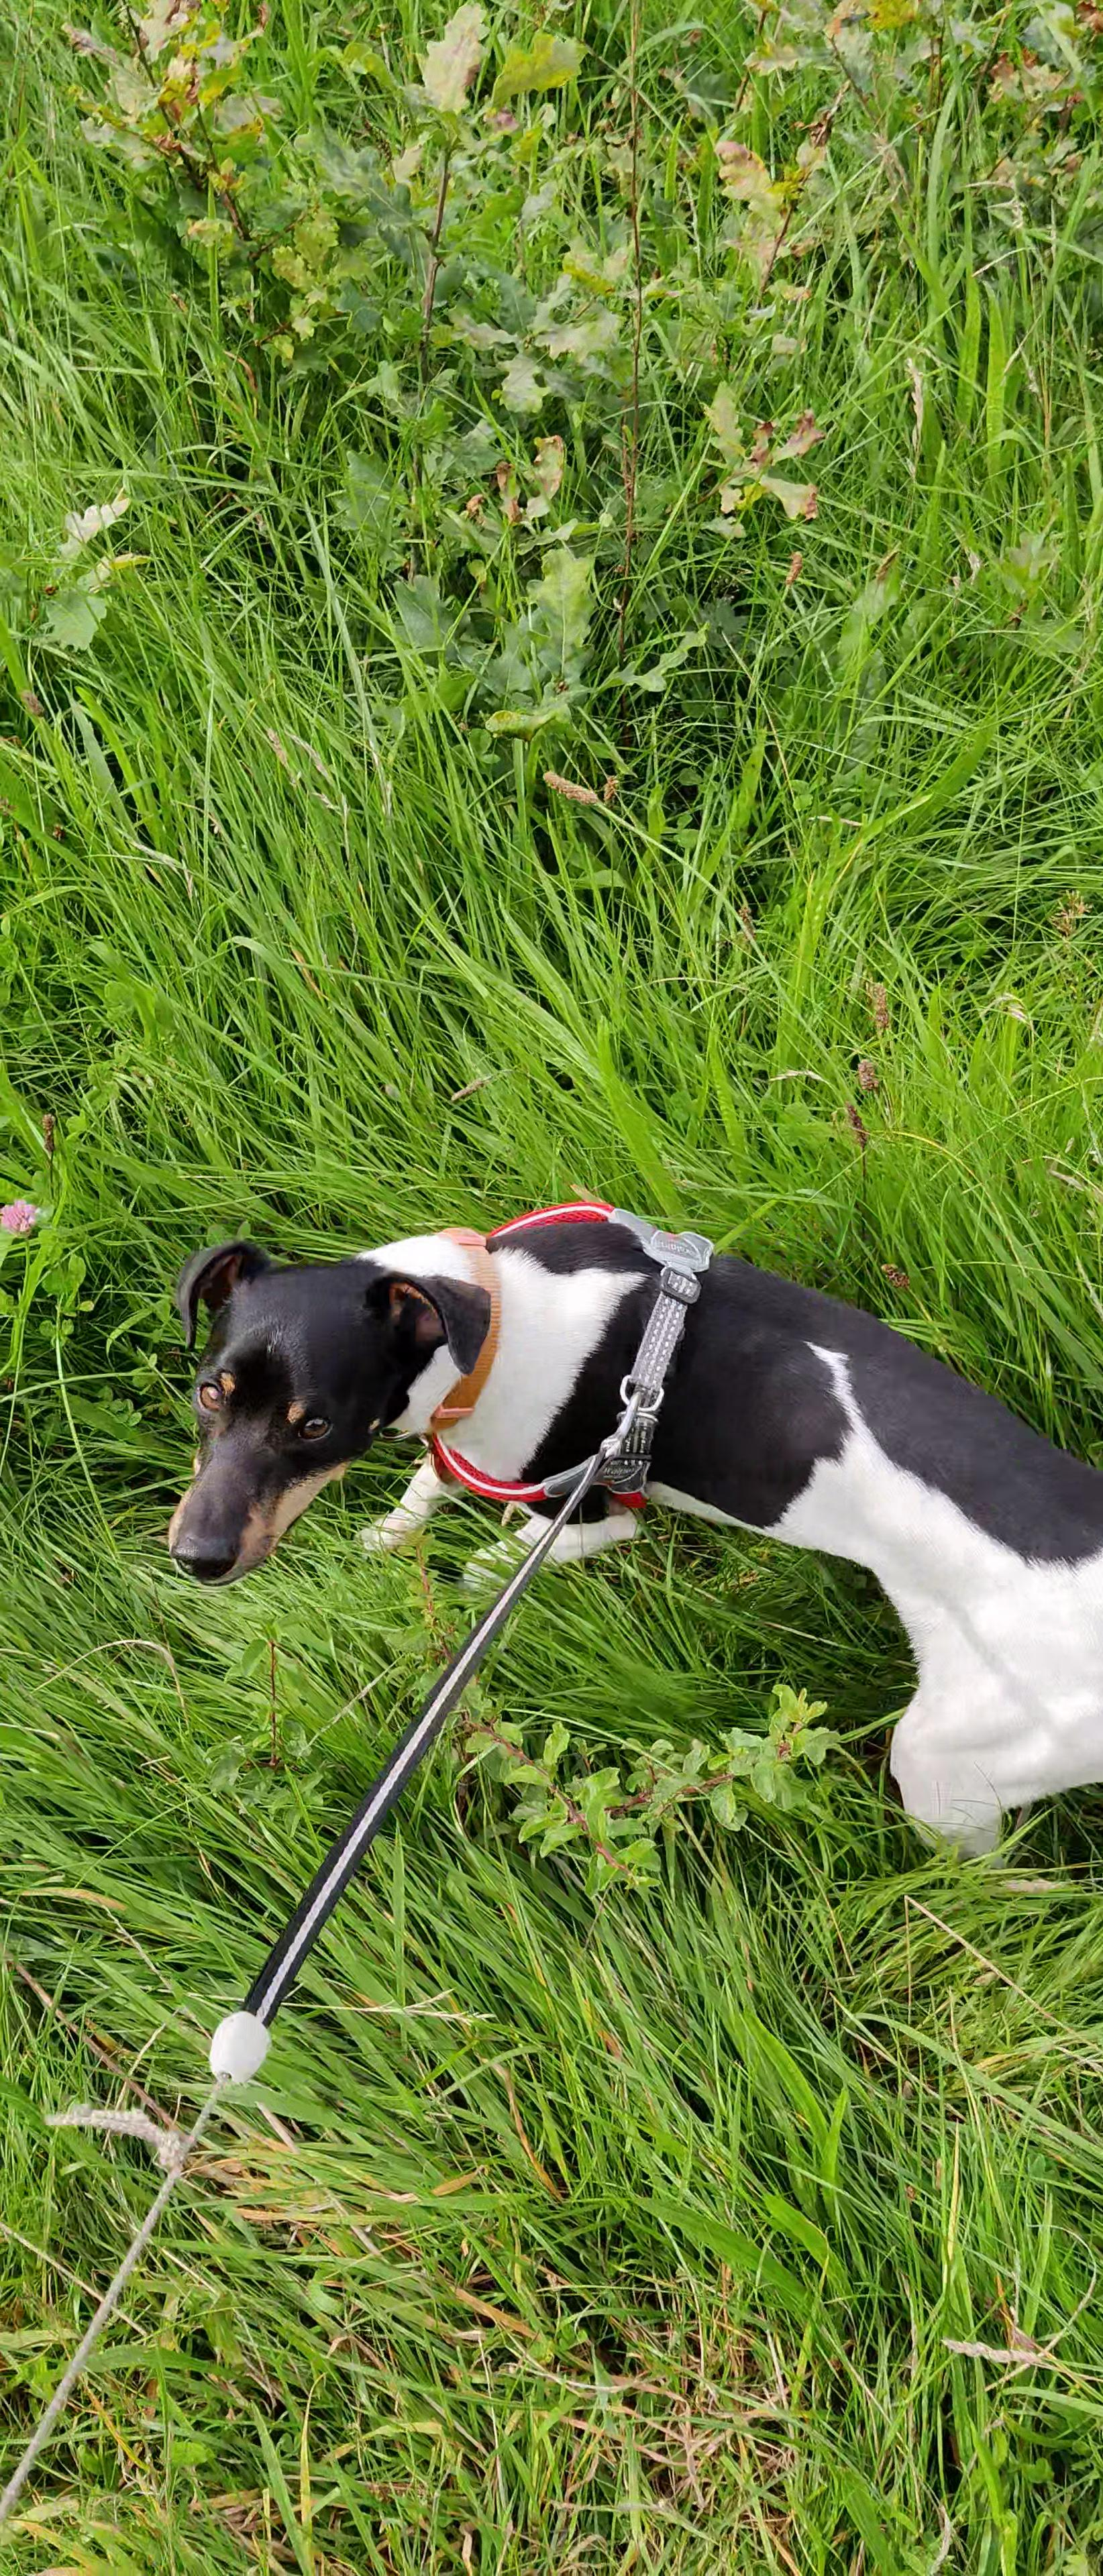Dog: (118, 1163, 1103, 1896)
